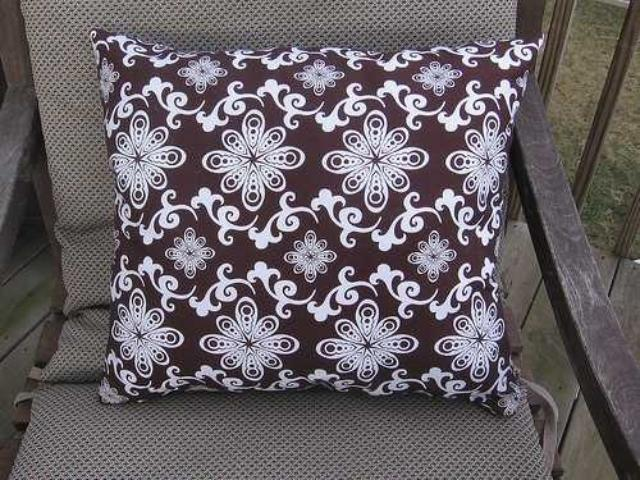pillow: (88, 23, 546, 417)
